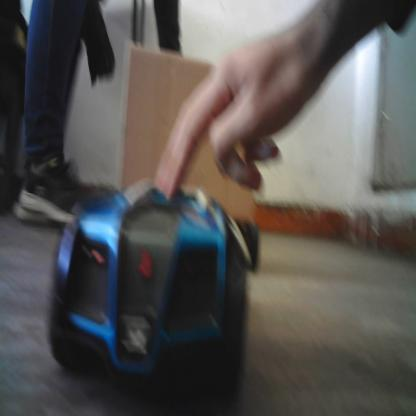LeadTruck: (122, 41, 259, 258)
